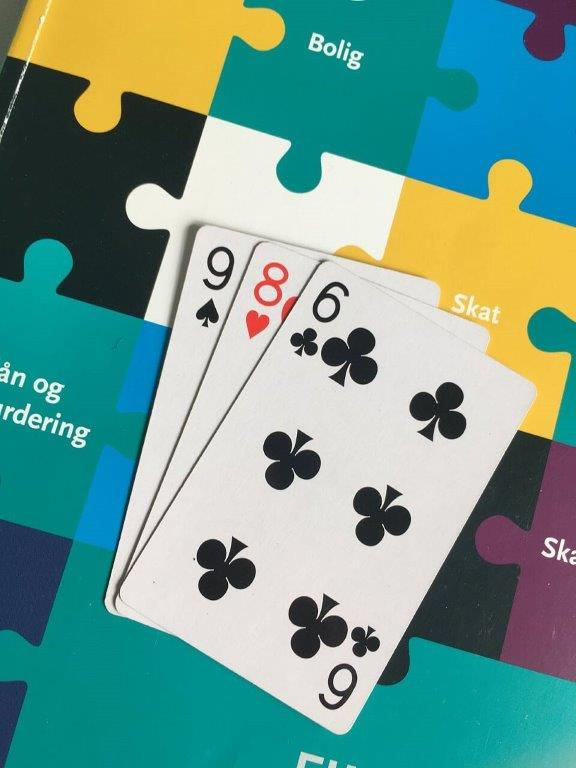6C: (286, 278, 352, 360)
8H: (240, 257, 291, 343)
9S: (191, 242, 236, 330)
